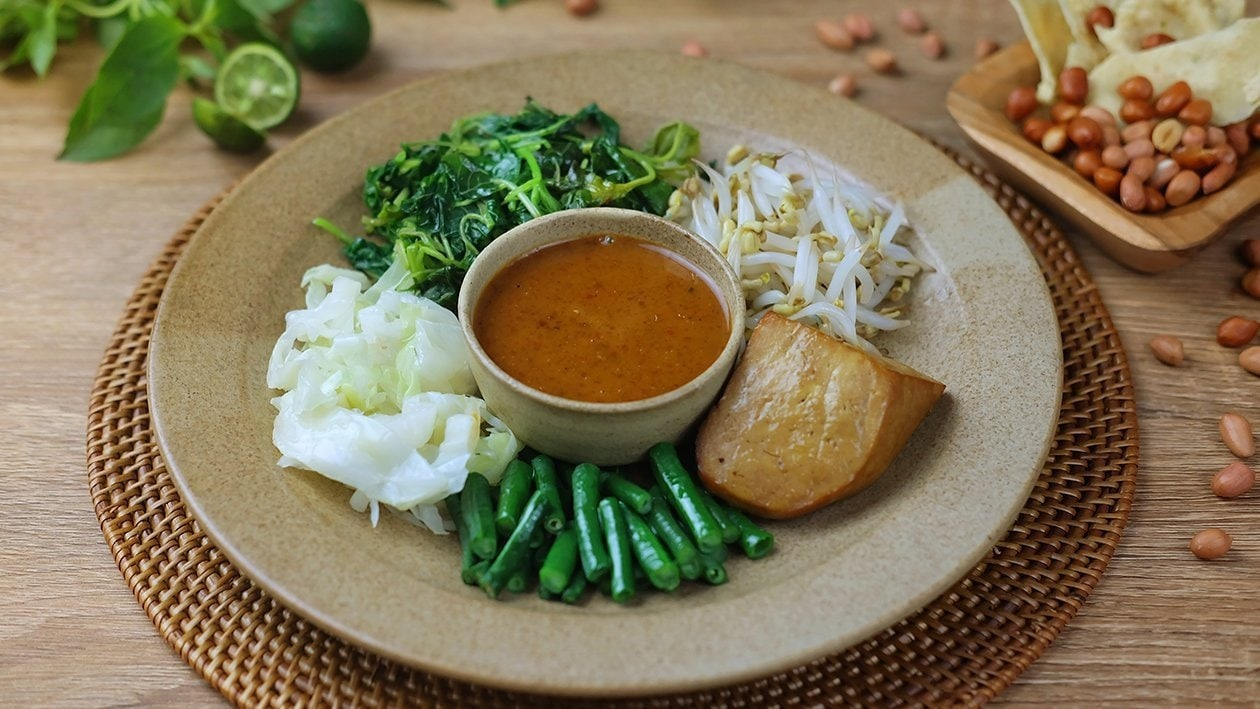pecel: (252, 105, 987, 563)
